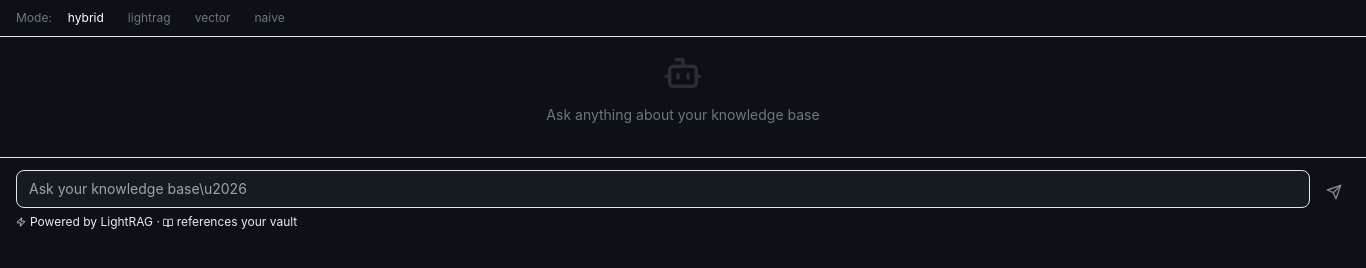
Test: AIChat (legacy fetch-based) — send › streams assistant token into message
This screenshot has width=1366, height=268.
Type "Tell me about DSP" into the text box with placeholder "Ask your knowledge base\\u2026" at (663, 189), box [16,170,1310,208]
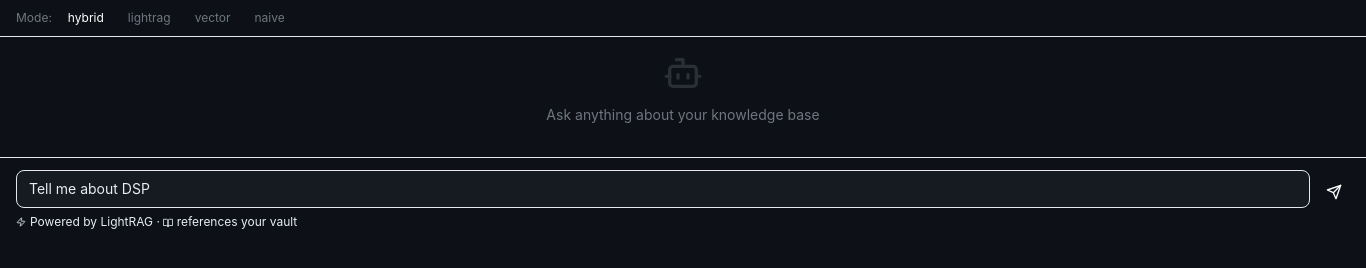
Press Enter in the text box with placeholder "Ask your knowledge base\\u2026", box [16,170,1310,208]
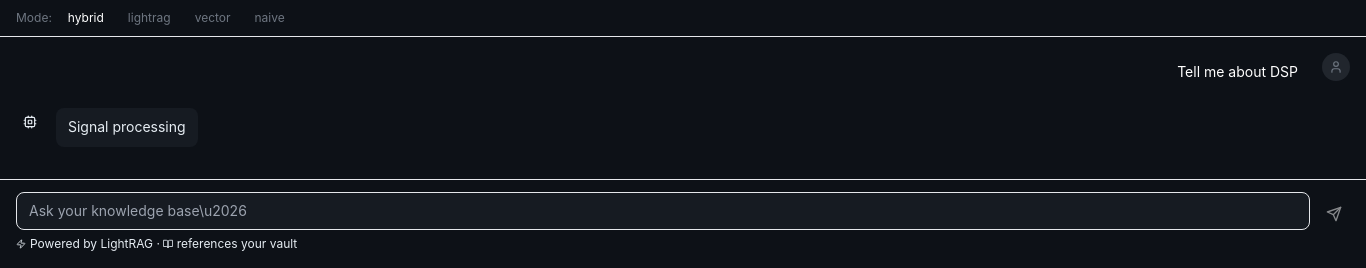
Expected: the text "Signal processing" is shown, [56,108,198,147]
